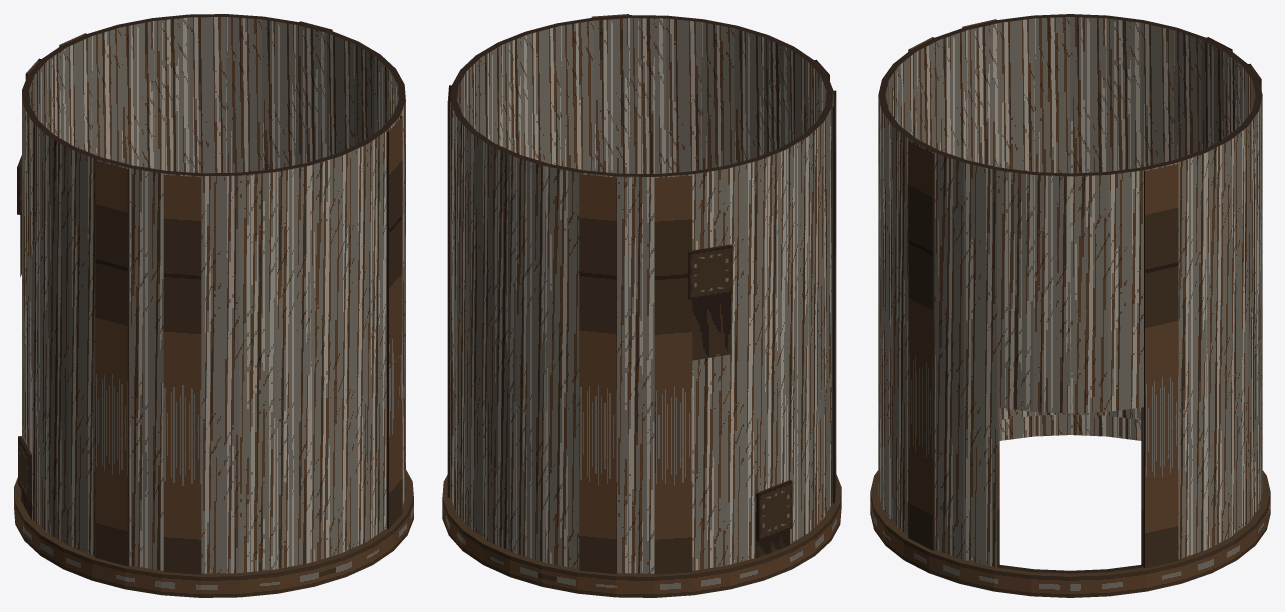
File: TOR-01_Fuste_de_torre_b_porton.gltf
The picture shows the model from 3 angles, left to right: view 1: azimuth 30°, elevation 25°; view 2: azimuth 150°, elevation 25°; view 3: azimuth 270°, elevation 25°; orthographic projection.
Visible parts, largest first — view 1: TOR-01_Fuste_de_torre_b_porton-col; view 2: TOR-01_Fuste_de_torre_b_porton-col; view 3: TOR-01_Fuste_de_torre_b_porton-col.
Boxes of the visible parts, x1=… form: TOR-01_Fuste_de_torre_b_porton-col: x1=14, y1=14, x2=413, y2=597; TOR-01_Fuste_de_torre_b_porton-col: x1=442, y1=14, x2=841, y2=597; TOR-01_Fuste_de_torre_b_porton-col: x1=870, y1=14, x2=1270, y2=597.
Bounding box in the file's own units: 5.21 × 6 × 5.21.
Materials: 1 (1 with a texture image).
